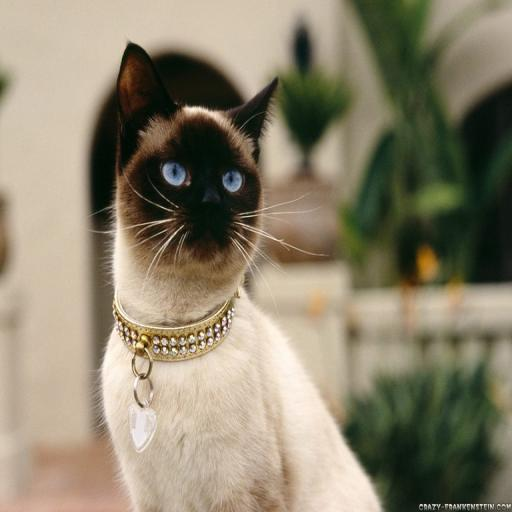cat: (100, 42, 384, 512)
